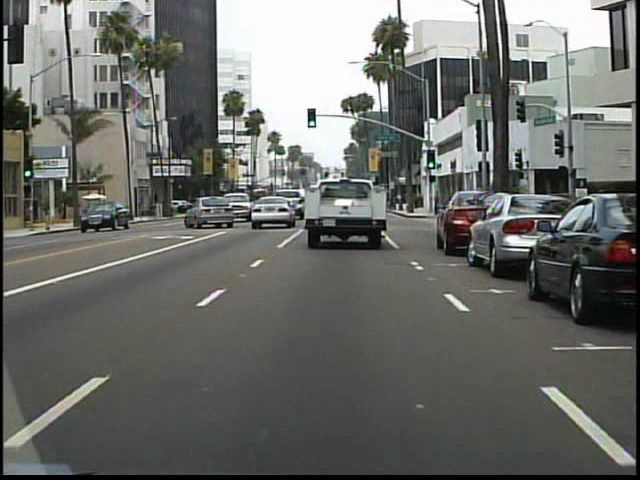person: (430, 189, 444, 216)
